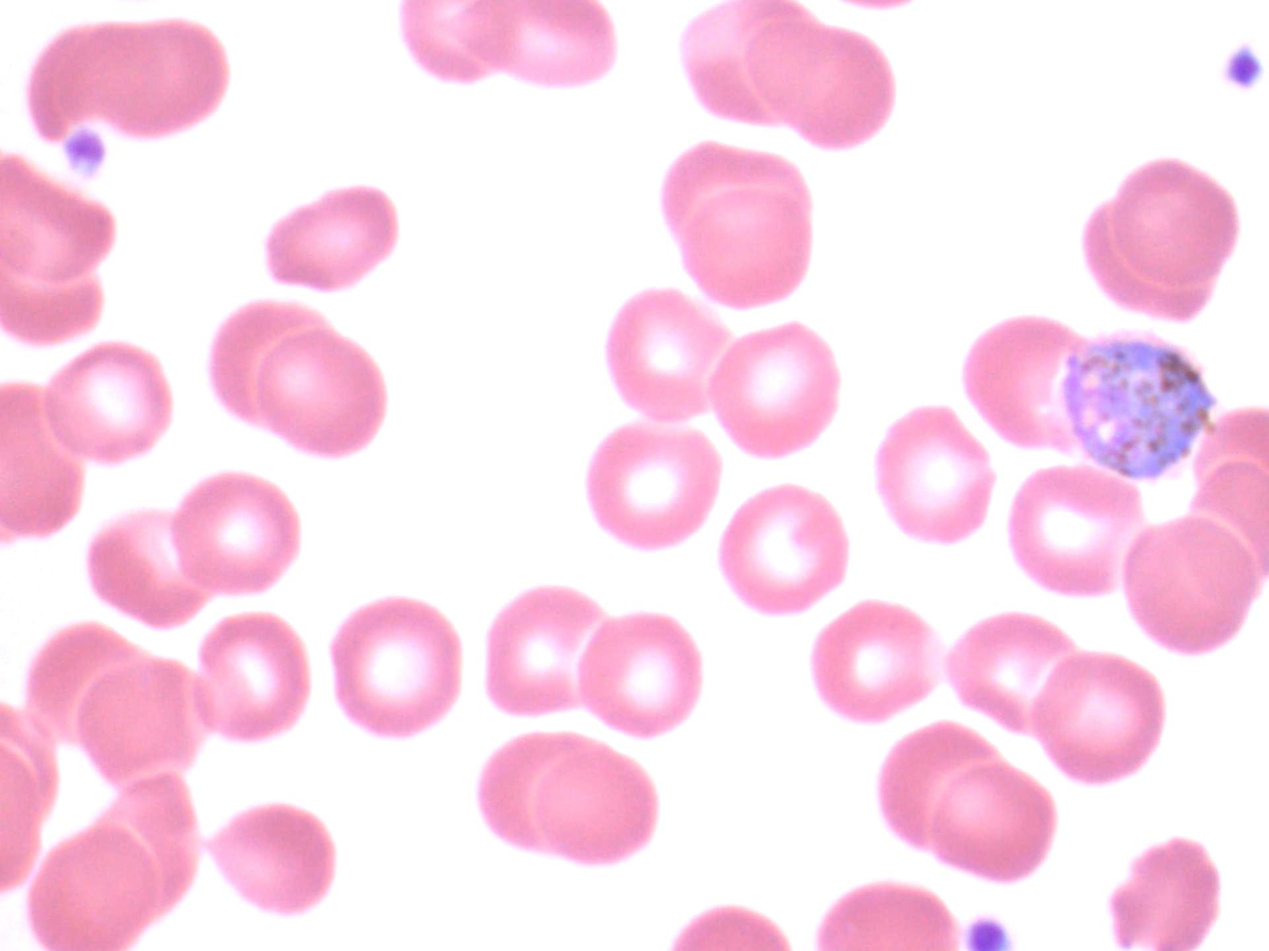Infected: (1062, 327, 1211, 479)
Uninfected: (740, 19, 899, 150), (965, 313, 1105, 454), (1008, 456, 1143, 598), (1115, 516, 1250, 656), (603, 286, 744, 420), (1024, 653, 1167, 785), (327, 598, 463, 735), (79, 655, 210, 787), (712, 324, 838, 459), (25, 826, 157, 951), (261, 331, 391, 457), (720, 486, 854, 608), (943, 612, 1080, 731), (877, 405, 994, 543), (1079, 197, 1206, 323), (97, 19, 231, 138), (810, 603, 946, 720), (572, 613, 699, 738), (587, 427, 716, 549), (443, 0, 617, 90), (684, 0, 813, 121), (1114, 157, 1236, 284), (686, 185, 813, 307), (658, 142, 805, 247), (46, 341, 172, 463), (534, 747, 661, 866), (929, 760, 1055, 879), (261, 185, 401, 292), (879, 722, 1003, 842), (484, 587, 600, 714), (178, 470, 297, 591), (208, 803, 333, 917), (197, 613, 309, 740), (0, 162, 116, 282), (86, 511, 205, 627), (1104, 838, 1224, 951), (478, 731, 594, 845), (0, 384, 82, 539), (21, 27, 128, 136), (400, 0, 519, 84), (820, 879, 956, 951)
